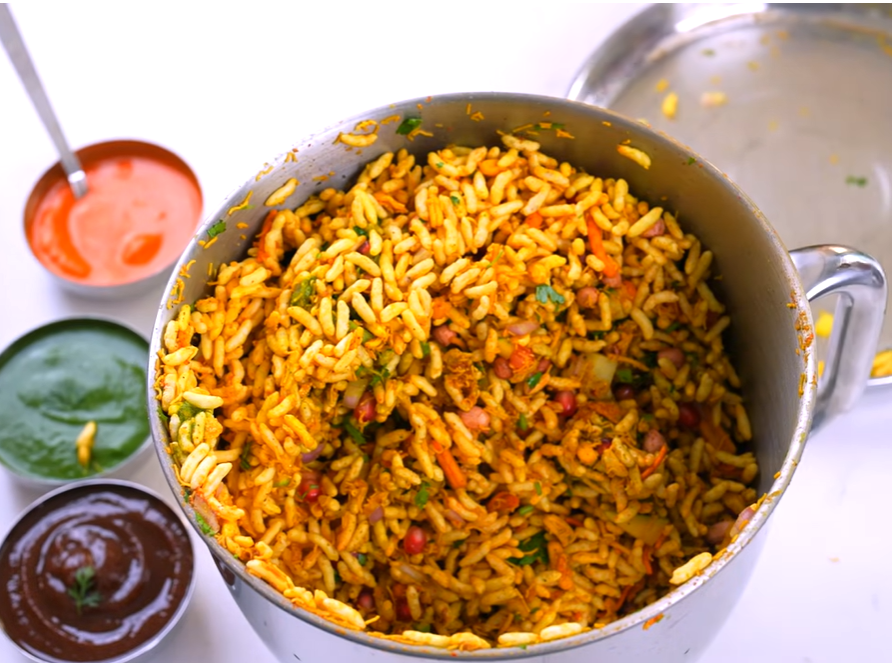chatpate: (209, 193, 736, 580)
